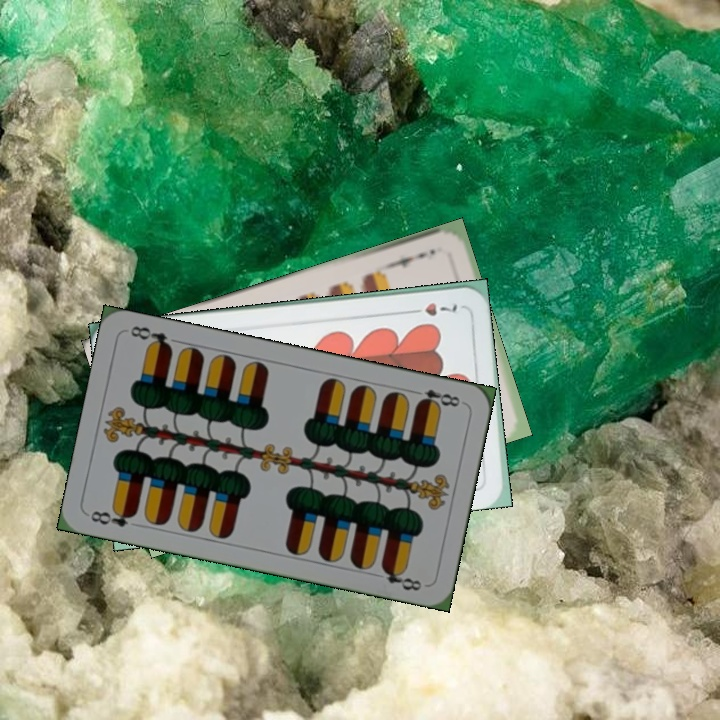E7: (387, 245, 438, 271)
E8: (408, 385, 463, 411), (86, 504, 139, 530)
H7: (404, 298, 460, 318)
